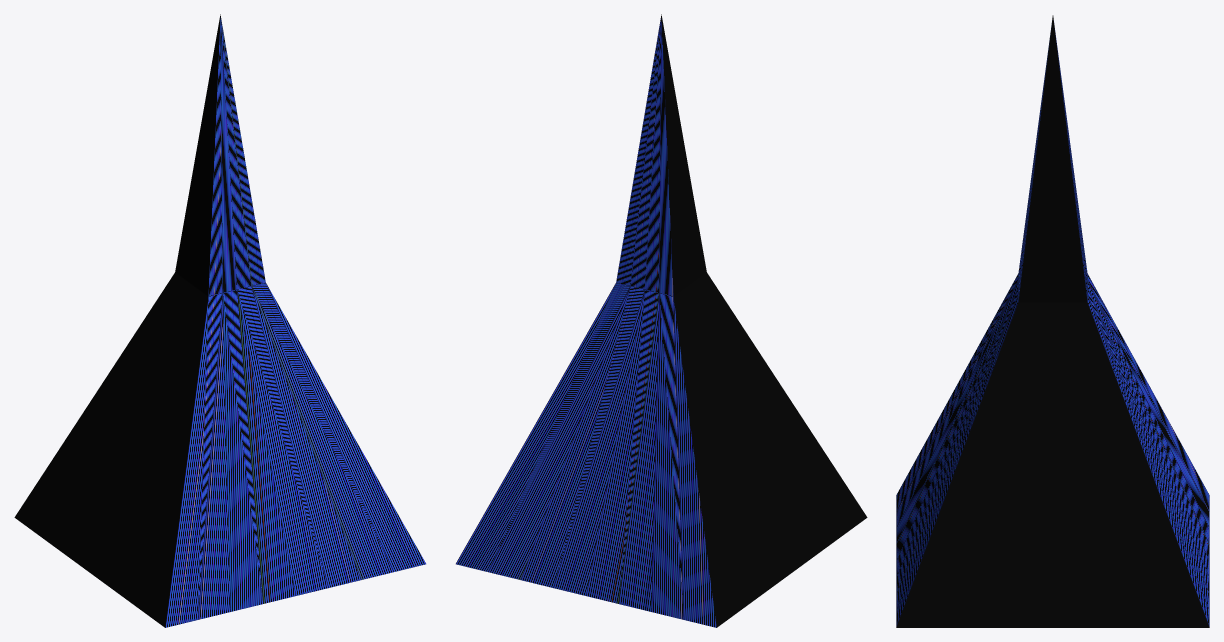
File: Tower.glb
The picture shows the model from 3 angles, left to right: view 1: azimuth 30°, elevation 25°; view 2: azimuth 150°, elevation 25°; view 3: azimuth 270°, elevation 25°; orthographic projection. The views are drawn at different scales.
Visible parts, largest first — view 1: CUBE; view 2: CUBE; view 3: CUBE.
Part boxes in pixels (left/top/right/bottom): CUBE: left=14, top=14, right=425, bottom=627; CUBE: left=456, top=14, right=867, bottom=627; CUBE: left=896, top=15, right=1209, bottom=627.
Bounding box in the file's own units: 5 × 9.64 × 5.
1 material, 1 textured.
